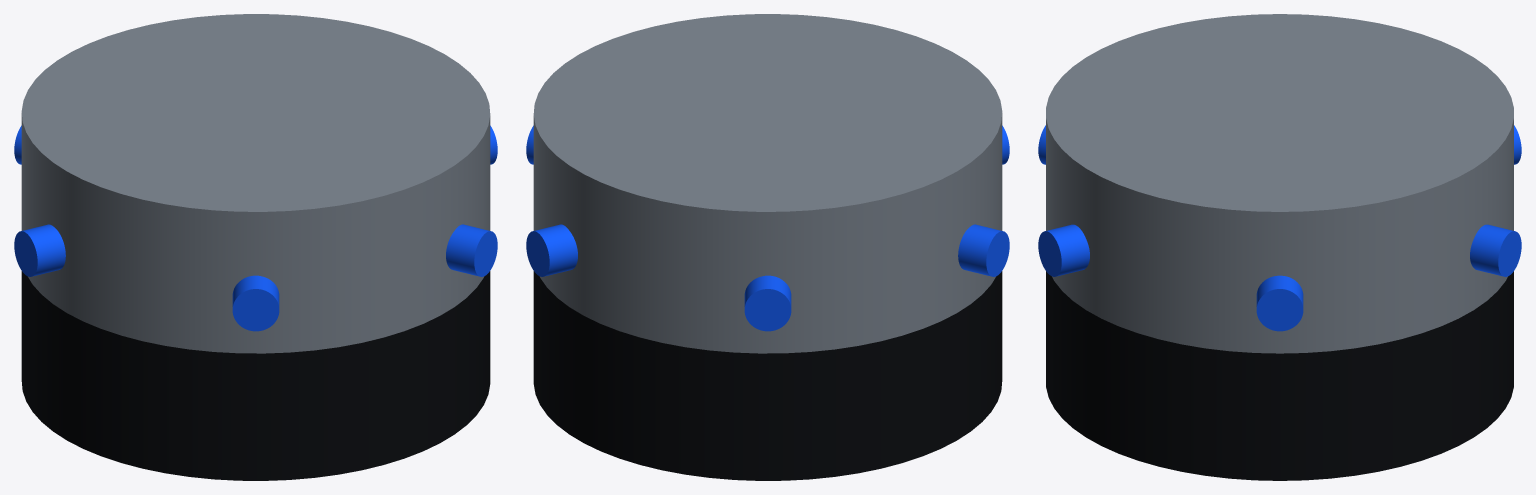
Rendered from tool_changer.glb.
3 views of the same model, side by side, from view 1: azimuth 30°, elevation 25°; view 2: azimuth 150°, elevation 25°; view 3: azimuth 270°, elevation 25° (orthographic).
Parts seen in each view (by area): view 1: tool_changer; view 2: tool_changer; view 3: tool_changer.
Boxes of the visible parts, left/top/right/bottom form: tool_changer: left=14, top=14, right=497, bottom=480; tool_changer: left=526, top=14, right=1009, bottom=480; tool_changer: left=1038, top=14, right=1521, bottom=480.
Size of the model in its own units: 0.068 by 0.038 by 0.0619.
